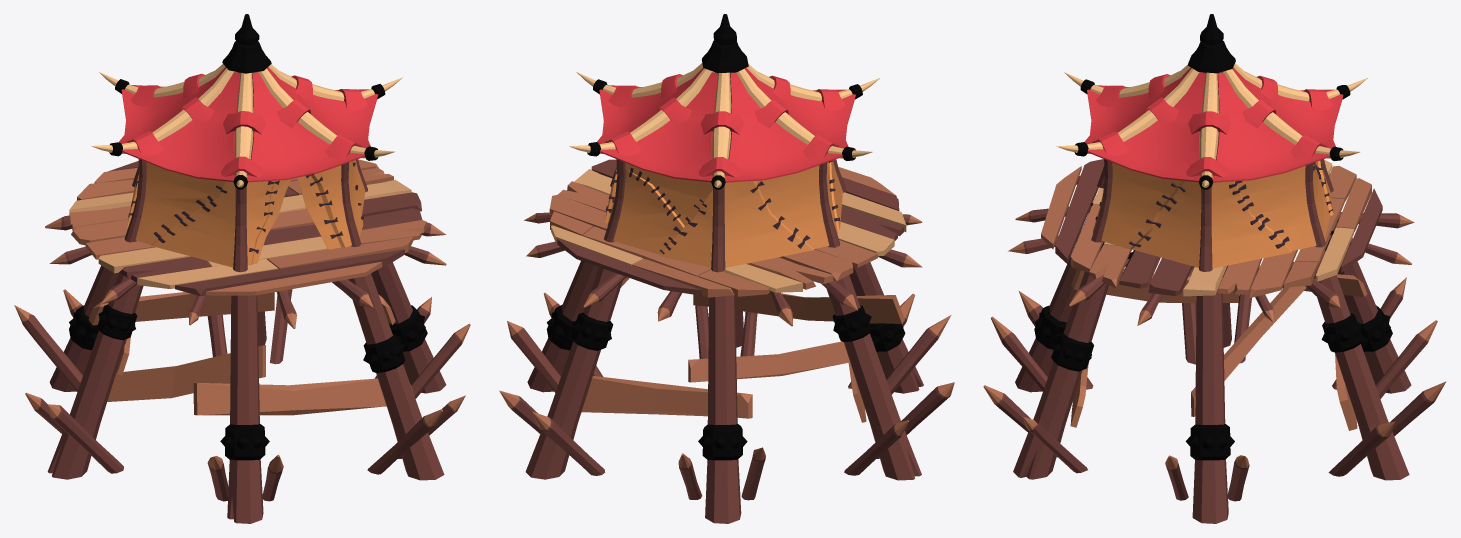
Rendered from Ork Watch Tower 01.fbx.
3 views of the same model, side by side, from view 1: azimuth 30°, elevation 25°; view 2: azimuth 150°, elevation 25°; view 3: azimuth 270°, elevation 25° (orthographic).
Parts seen in each view (by area): view 1: Ork Watch Tower 01; view 2: Ork Watch Tower 01; view 3: Ork Watch Tower 01.
Part boxes in pixels (<box>): Ork Watch Tower 01: <box>14,14,470,523</box>; Ork Watch Tower 01: <box>499,14,954,523</box>; Ork Watch Tower 01: <box>983,14,1446,523</box>.
Size of the model in its own units: 1226 by 1162 by 1179.
